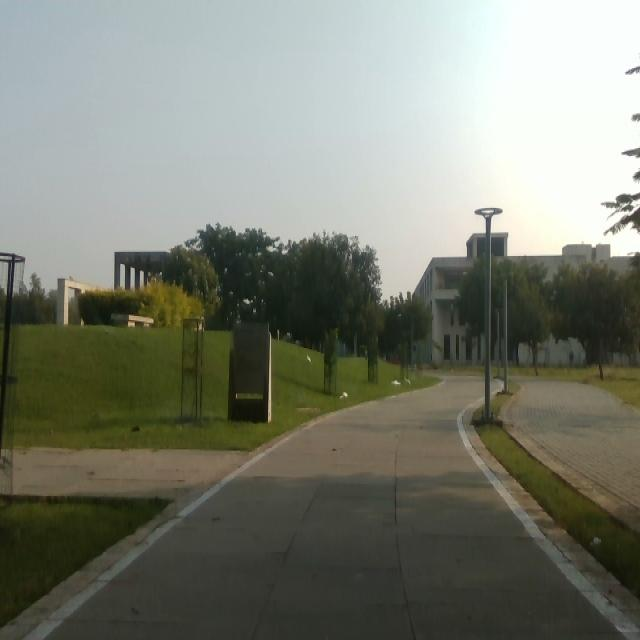lane: (48, 377, 627, 640)
